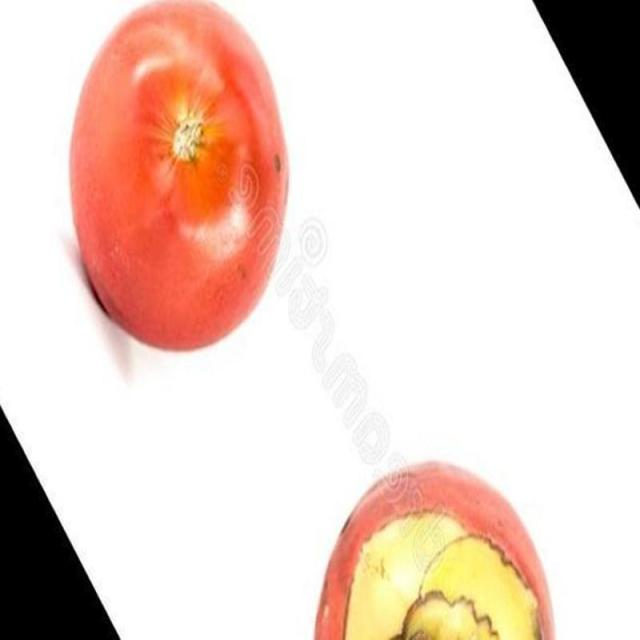good: (66, 0, 290, 355), (312, 461, 559, 639)
